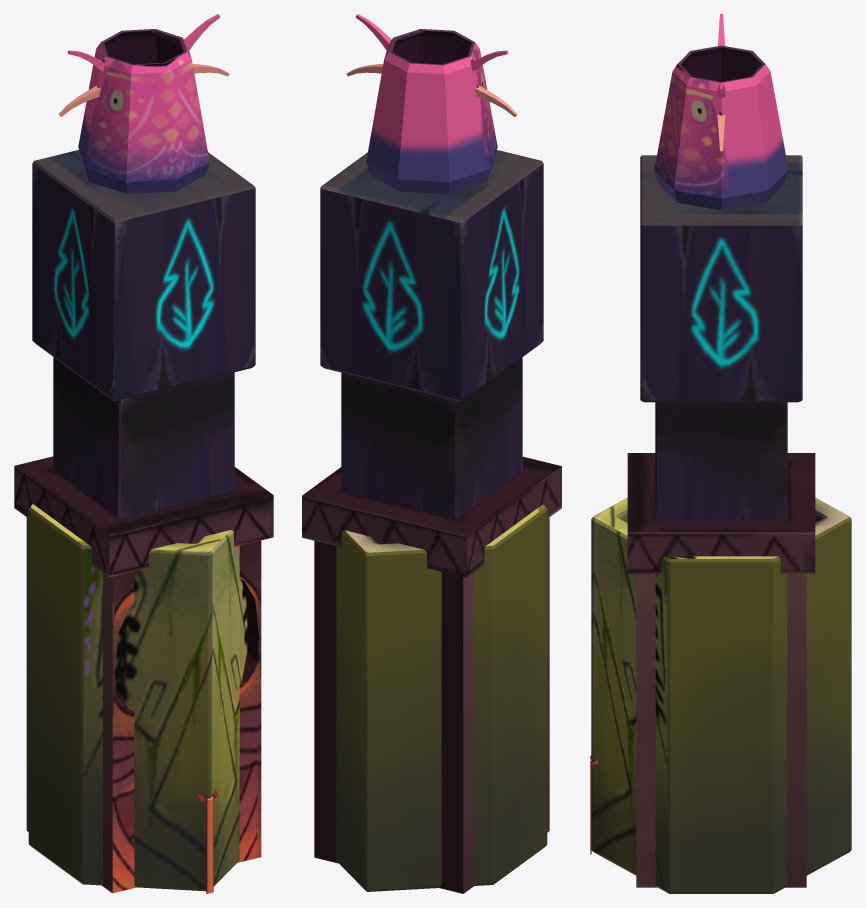
File: Monolitos.fbx
3 renders of one model, left to right at view 1: azimuth 30°, elevation 25°; view 2: azimuth 150°, elevation 25°; view 3: azimuth 270°, elevation 25°, orthographic.
Visible parts, largest first — view 1: MonolitoAzul.001, MonilitoVerde.001, MonolitoRojo.001, MonolitoAzulCanasto.001; view 2: MonolitoAzul.001, MonilitoVerde.001, MonolitoRojo.001, MonolitoAzulCanasto.001; view 3: MonilitoVerde.001, MonolitoAzul.001, MonolitoRojo.001, MonolitoAzulCanasto.001.
Part boxes in pixels (box(x1,y1,x2,y2)): MonolitoAzul.001: box(32, 150, 255, 708); MonilitoVerde.001: box(28, 504, 247, 891); MonolitoRojo.001: box(14, 456, 273, 893); MonolitoAzulCanasto.001: box(59, 14, 228, 193); MonolitoAzul.001: box(320, 150, 543, 518); MonilitoVerde.001: box(336, 504, 547, 891); MonolitoRojo.001: box(302, 456, 561, 893); MonolitoAzulCanasto.001: box(346, 14, 517, 194); MonilitoVerde.001: box(591, 497, 851, 893); MonolitoAzul.001: box(640, 155, 802, 520); MonolitoRojo.001: box(590, 453, 815, 887); MonolitoAzulCanasto.001: box(654, 14, 788, 210).
Size of the model in its own units: 180 by 781 by 230.
